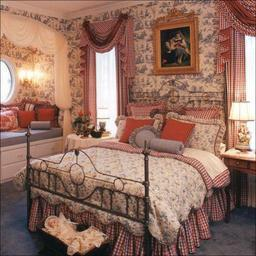Cama: (23, 92, 230, 239)
Ventana: (83, 27, 121, 128), (229, 19, 255, 148)
